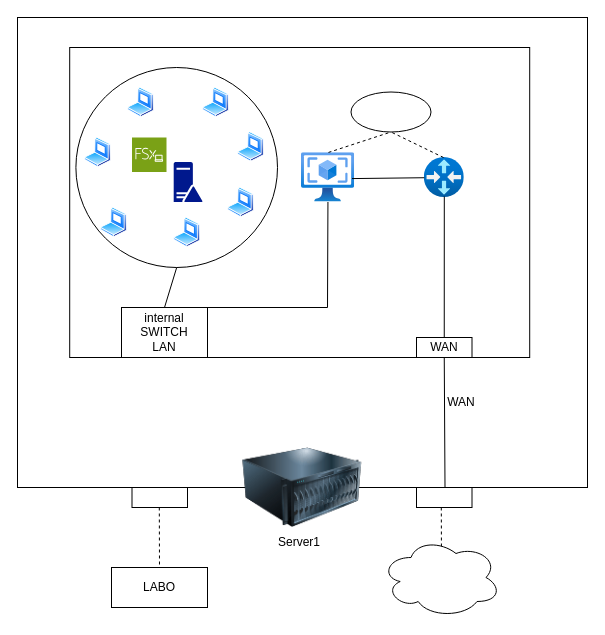
Some shapes in this 605 by 635 pixel diagram are drawn without their labels. The centre of each missing label's shape, as x and y in pixels:
Internet: [440,577]
VM pfSense: [390,111]
